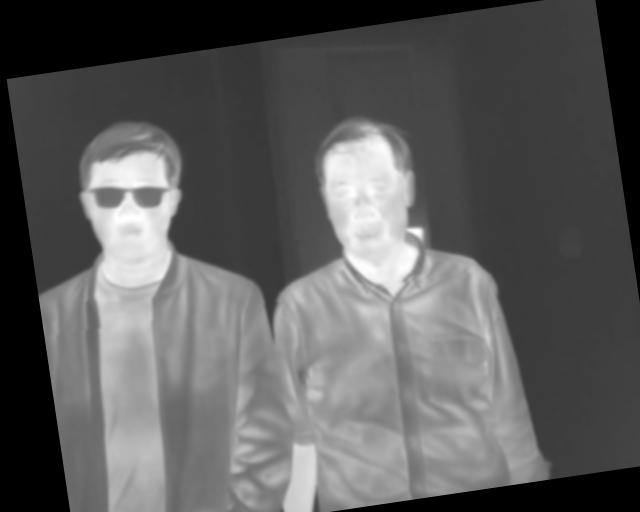face: (68, 113, 195, 273), (307, 108, 427, 267)
